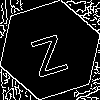Z: (25, 25, 69, 78)
